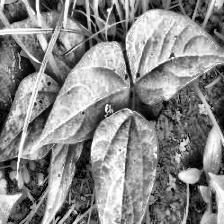ALS: (20, 41, 132, 158), (123, 7, 224, 111), (0, 68, 82, 166)
